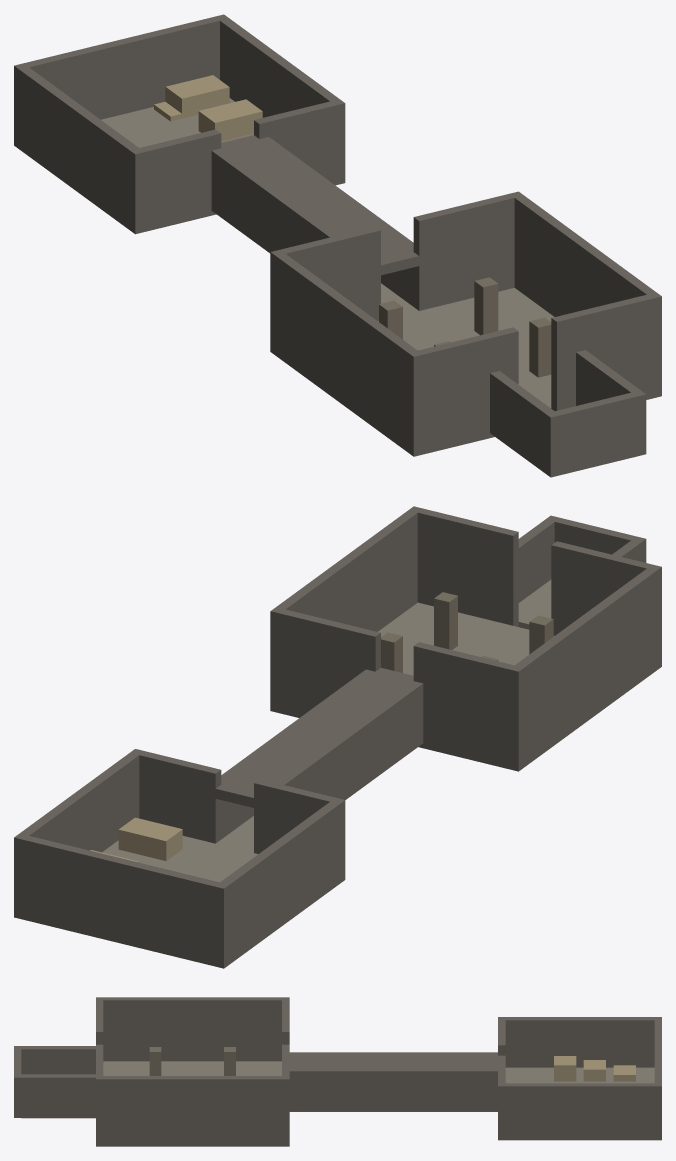
Rendered from mvp_greybox.glb.
The picture shows the model from 3 angles, top to bottom: view 1: azimuth 30°, elevation 25°; view 2: azimuth 150°, elevation 25°; view 3: azimuth 270°, elevation 25°; orthographic projection. The views are drawn at different scales.
Visible parts, largest first — view 1: B_wall_w, A_wall_s, B_wall_n_l, A_wall_w, B_wall_e, B_wall_s_r, B_wall_n_r, C_ceiling, A_wall_n_l, C_wall_w, D_wall_n, A_wall_e (+12 smaller); view 2: A_wall_s, B_wall_w, B_wall_s_l, A_wall_w, B_wall_n_r, C_ceiling, B_wall_e, B_wall_s_r, C_wall_w, A_wall_e, A_wall_n_r, B_wall_n_l (+12 smaller); view 3: B_wall_e, B_wall_w, C_wall_e, A_wall_e, A_wall_w, D_wall_e, C_ceiling, B_floor, D_wall_w, A_floor, A_wall_s, C_wall_w (+12 smaller).
Part boxes in pixels (x1,y1,x2,y2): B_wall_w: (276,254,417,452); A_wall_s: (14,14,229,149); B_wall_n_l: (408,327,518,456); A_wall_w: (19,67,138,229); B_wall_e: (514,195,655,316); B_wall_s_r: (413,191,523,310); B_wall_n_r: (551,292,661,410); C_ceiling: (211,135,428,277); A_wall_n_l: (129,129,221,234); C_wall_w: (211,148,380,319); D_wall_n: (545,390,646,477); A_wall_e: (220,18,339,117); A_wall_s: (14,833,229,968); B_wall_w: (515,568,656,766); B_wall_s_l: (413,642,524,771); A_wall_w: (220,801,339,963); B_wall_n_r: (408,506,518,626); C_ceiling: (206,668,422,809); B_wall_e: (276,510,417,631); B_wall_s_r: (270,607,380,717); C_wall_w: (254,683,423,853); A_wall_e: (20,753,139,852); A_wall_n_r: (130,749,221,843); B_wall_n_l: (551,541,661,670); B_wall_e: (103,1076,281,1146); B_wall_w: (103,997,281,1061); C_wall_e: (289,1068,497,1111); A_wall_e: (505,1083,654,1140); A_wall_w: (505,1017,654,1067); D_wall_e: (21,1074,95,1117); C_ceiling: (289,1055,505,1077); B_floor: (103,1061,281,1075); D_wall_w: (21,1046,95,1074); A_floor: (505,1067,654,1083); A_wall_s: (654,1017,661,1140); C_wall_w: (289,1052,497,1055).
Size of the model in its own units: 26 by 10 by 87.
